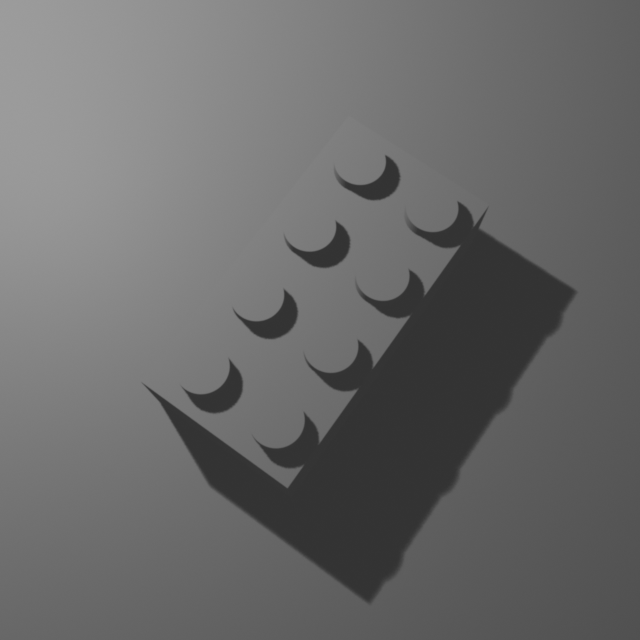lego_2x4: (137, 107, 493, 498)
